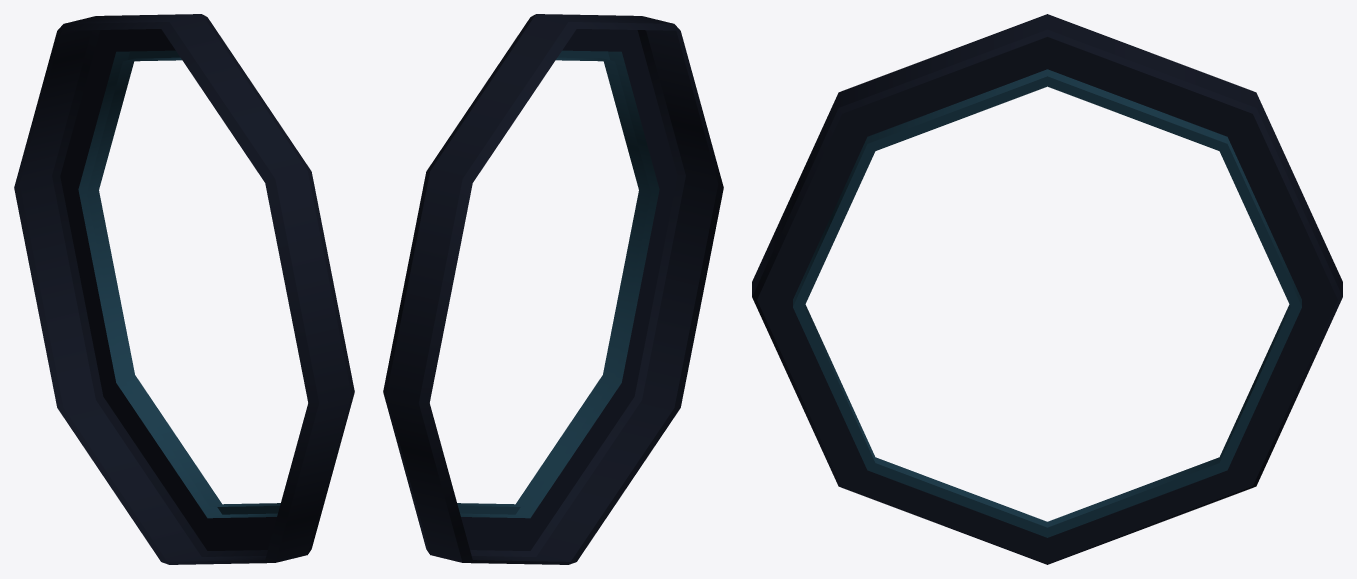
File: PipeSmall_Connector_01_S_Half.fbx
3 views of the same model, side by side, from view 1: azimuth 30°, elevation 25°; view 2: azimuth 150°, elevation 25°; view 3: azimuth 270°, elevation 25° (orthographic).
Parts seen in each view (by area): view 1: PipeSmall_Connector_01_S_Half.001; view 2: PipeSmall_Connector_01_S_Half.001; view 3: PipeSmall_Connector_01_S_Half.001.
Boxes of the visible parts, x1,y1,x2,y2 form: PipeSmall_Connector_01_S_Half.001: (14,14,354,564); PipeSmall_Connector_01_S_Half.001: (383,14,723,564); PipeSmall_Connector_01_S_Half.001: (752,14,1342,564).
Size of the model in its own units: 0.0144 by 0.1225 by 0.1225.
